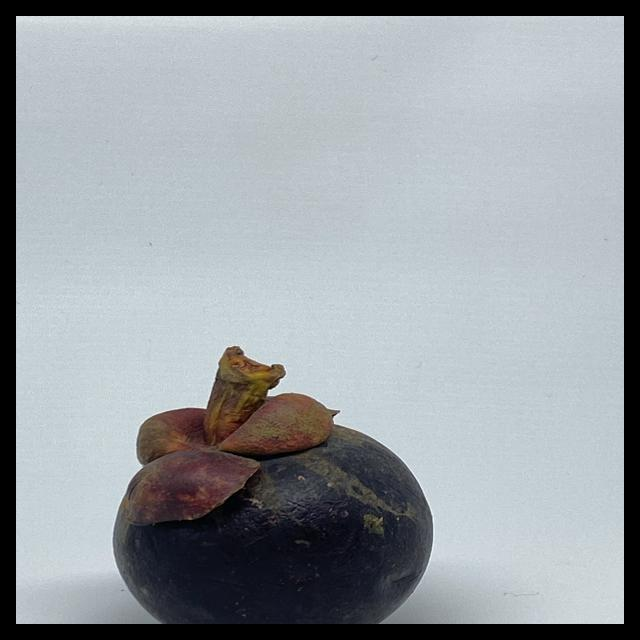mangosteen: (104, 338, 454, 624)
